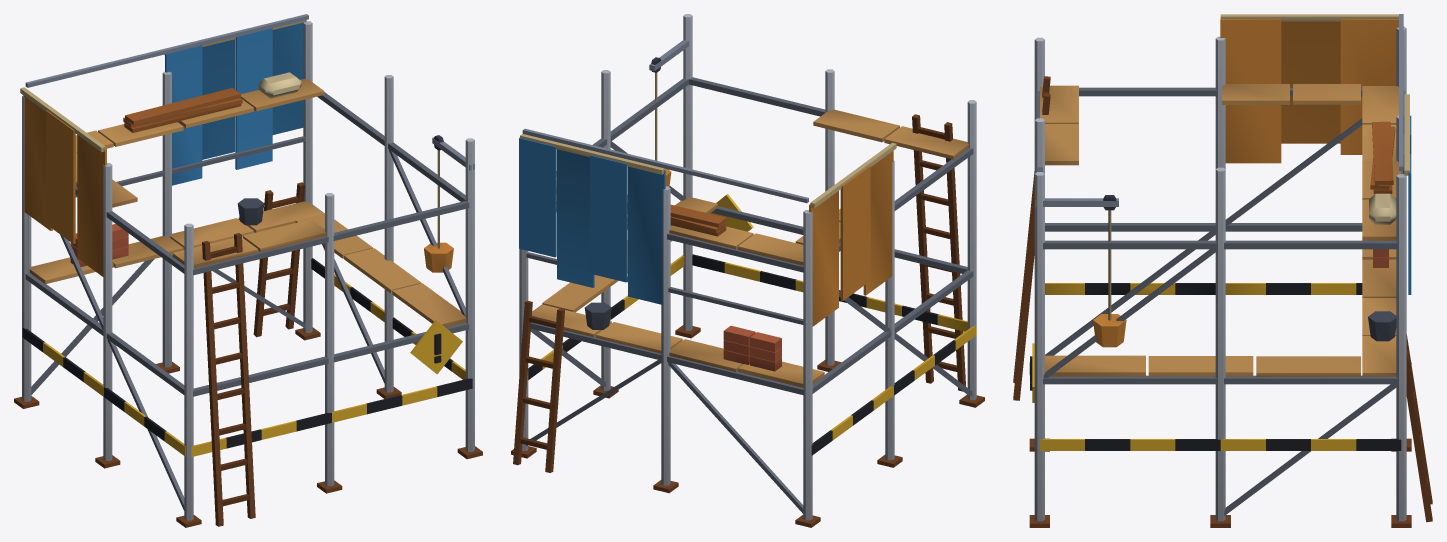
Rendered from b_scaffold_2x2.glb.
3 views of the same model, side by side, from view 1: azimuth 30°, elevation 25°; view 2: azimuth 150°, elevation 25°; view 3: azimuth 270°, elevation 25° (orthographic). The views are drawn at different scales.
Visible parts, largest first — view 1: body, sway_tarp1, sway_tarp3; view 2: body, sway_tarp1, sway_tarp3; view 3: body, sway_tarp3, sway_tarp1.
Part boxes in pixels (x1=…): body: x1=14, y1=14, x2=482, y2=527; sway_tarp1: x1=164, y1=20, x2=306, y2=185; sway_tarp3: x1=20, y1=87, x2=106, y2=276; body: x1=511, y1=14, x2=984, y2=527; sway_tarp1: x1=519, y1=133, x2=665, y2=304; sway_tarp3: x1=809, y1=142, x2=896, y2=326; body: x1=1013, y1=14, x2=1432, y2=527; sway_tarp3: x1=1220, y1=14, x2=1398, y2=163; sway_tarp1: x1=1403, y1=94, x2=1411, y2=294.
Bounding box in the file's own units: 4.15 × 4.23 × 4.5.
